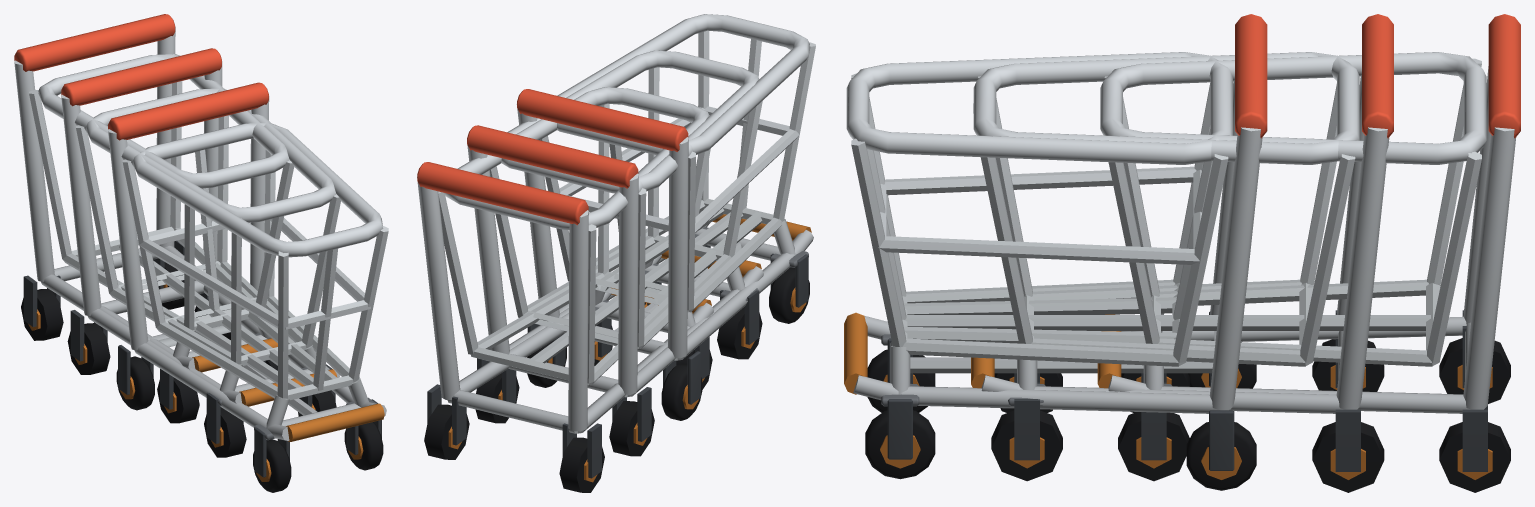
The model's file is ShoppingCart_Nested_3_01.glb.
The picture shows the model from 3 angles, left to right: view 1: azimuth 30°, elevation 25°; view 2: azimuth 150°, elevation 25°; view 3: azimuth 270°, elevation 25°; orthographic projection. The views are drawn at different scales.
Parts seen in each view (by area): view 1: SM_ShoppingCart_Nested_3_01; view 2: SM_ShoppingCart_Nested_3_01; view 3: SM_ShoppingCart_Nested_3_01.
Boxes of the visible parts, x1=… form: SM_ShoppingCart_Nested_3_01: x1=14, y1=14, x2=388, y2=492; SM_ShoppingCart_Nested_3_01: x1=417, y1=14, x2=815, y2=492; SM_ShoppingCart_Nested_3_01: x1=844, y1=14, x2=1520, y2=492.
Bounding box in the file's own units: 0.5899 × 1 × 1.6.
1 material, 1 textured.
